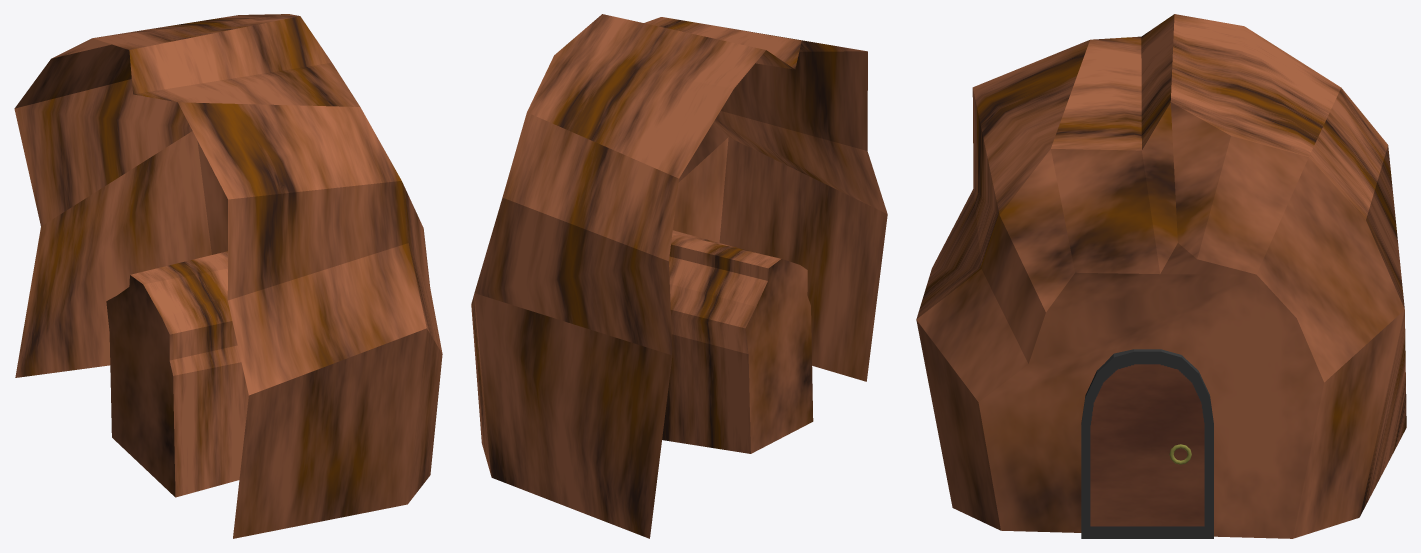
The model's file is PuertaSecreta.fbx.
The picture shows the model from 3 angles, left to right: view 1: azimuth 30°, elevation 25°; view 2: azimuth 150°, elevation 25°; view 3: azimuth 270°, elevation 25°; orthographic projection.
Visible parts, largest first — view 1: Puerta; view 2: Puerta; view 3: Puerta.
Part boxes in pixels (left/top/right/bottom): Puerta: left=14, top=14, right=442, bottom=538; Puerta: left=471, top=14, right=887, bottom=538; Puerta: left=916, top=14, right=1406, bottom=538.
Bounding box in the file's own units: 5.25 × 8.53 × 9.06.
Materials: 1 (1 with a texture image).
